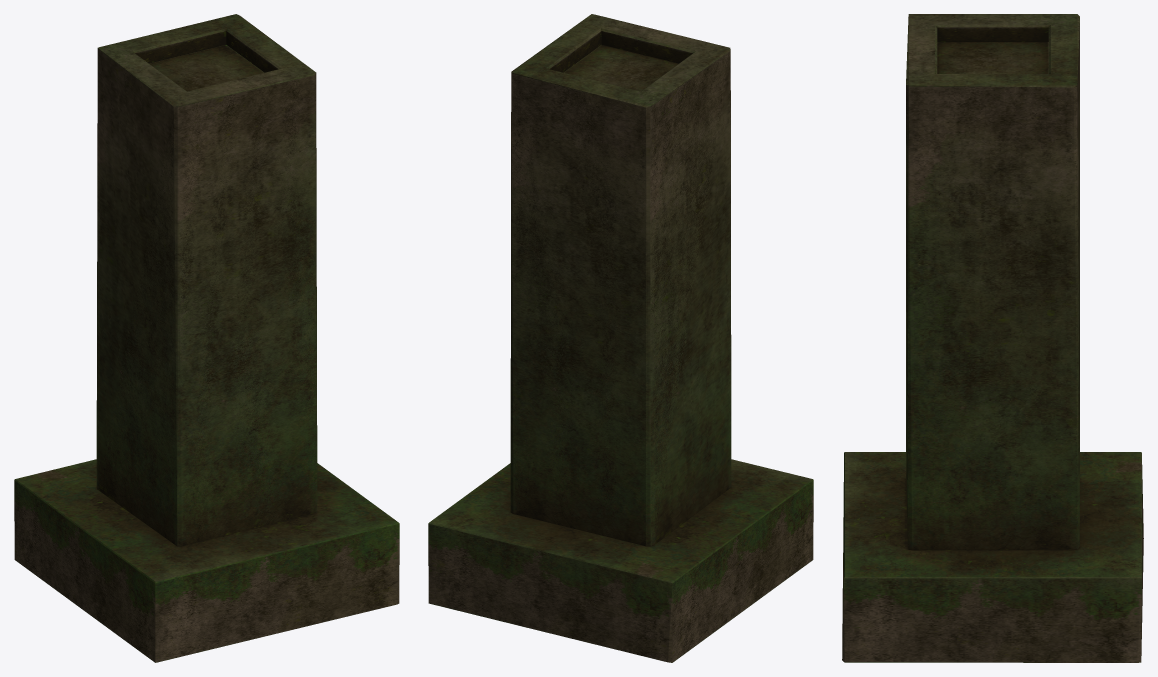
File: NNJ0410024.fbx
3 renders of one model, left to right at view 1: azimuth 30°, elevation 25°; view 2: azimuth 150°, elevation 25°; view 3: azimuth 270°, elevation 25°, orthographic. The views are drawn at different scales.
Parts seen in each view (by area): view 1: smNNJ0410024; view 2: smNNJ0410024; view 3: smNNJ0410024.
Part boxes in pixels (<box>): smNNJ0410024: <box>14,14,399,662</box>; smNNJ0410024: <box>428,14,813,662</box>; smNNJ0410024: <box>842,14,1143,662</box>.
Bounding box in the file's own units: 54.26 × 110 × 54.62.
Materials: 1 (1 with a texture image).
